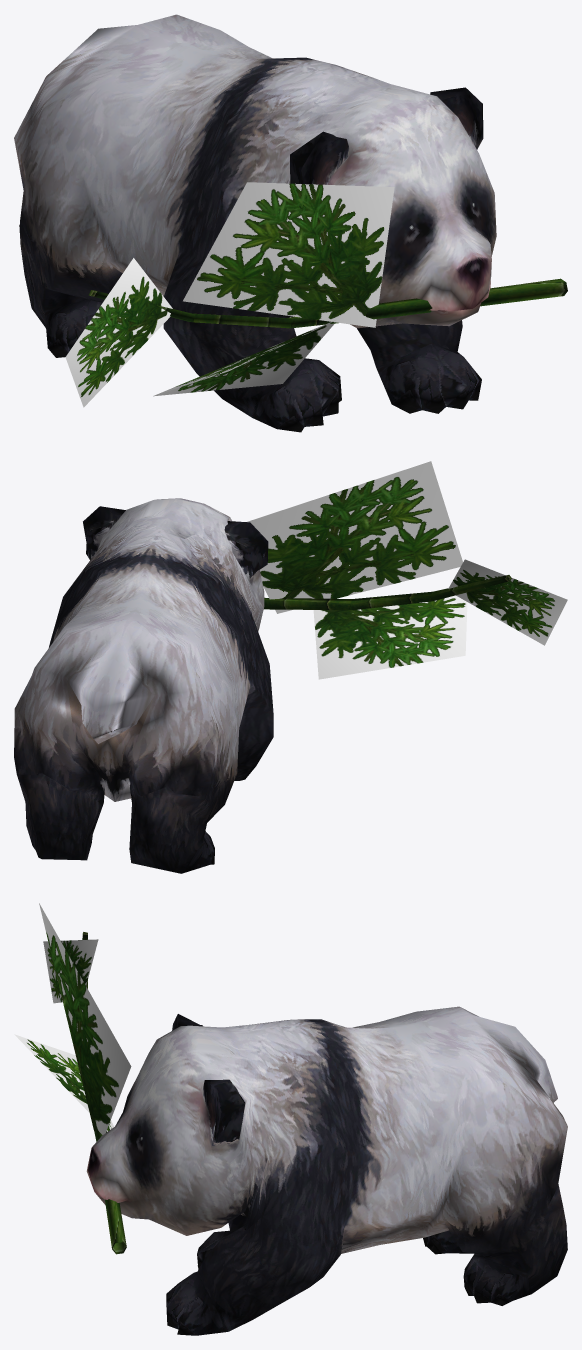
Rendered from xiongmao.FBX.
3 renders of one model, top to bottom at view 1: azimuth 30°, elevation 25°; view 2: azimuth 150°, elevation 25°; view 3: azimuth 270°, elevation 25°, orthographic. The views are drawn at different scales.
Visible parts, largest first — view 1: xiongmao; view 2: xiongmao; view 3: xiongmao.
Part boxes in pixels (box(x1,y1,x2,y2)): xiongmao: box(14, 14, 567, 432); xiongmao: box(14, 461, 567, 873); xiongmao: box(14, 903, 567, 1335).
Bounding box in the file's own units: 146 × 92.54 × 151.
Materials: 2 (2 with a texture image).
